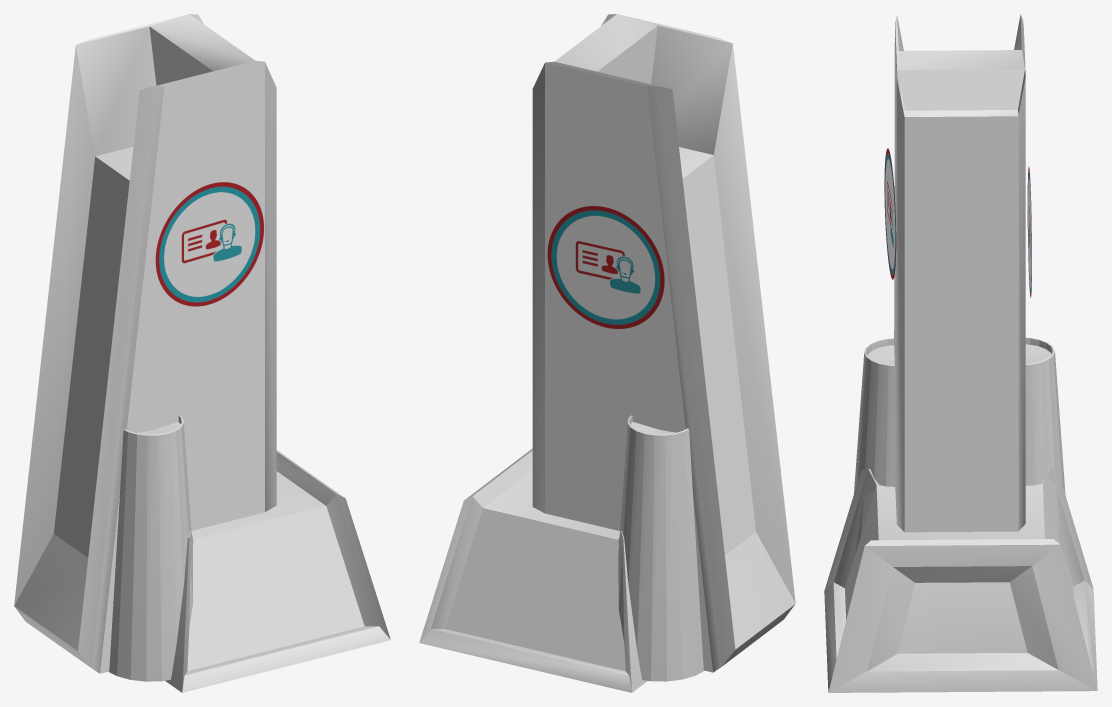
File: eighth building.glb
3 renders of one model, left to right at view 1: azimuth 30°, elevation 25°; view 2: azimuth 150°, elevation 25°; view 3: azimuth 270°, elevation 25°, orthographic.
Visible parts, largest first — view 1: Downtown Center City.1464, docid-manual.001; view 2: Downtown Center City.1464, docid-manual; view 3: Downtown Center City.1464, docid-manual.001, docid-manual.
Part boxes in pixels (x1,y1,x2,y2): Downtown Center City.1464: [14, 14, 390, 692]; docid-manual.001: [155, 182, 263, 306]; Downtown Center City.1464: [419, 14, 795, 692]; docid-manual: [547, 206, 664, 328]; Downtown Center City.1464: [824, 14, 1097, 692]; docid-manual.001: [884, 148, 896, 279]; docid-manual: [1027, 167, 1031, 297].
Bounding box in the file's own units: 4.25 × 8.38 × 3.61.
4 materials, 2 textured.
